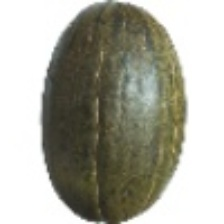honeydew: (0, 19, 198, 174)
